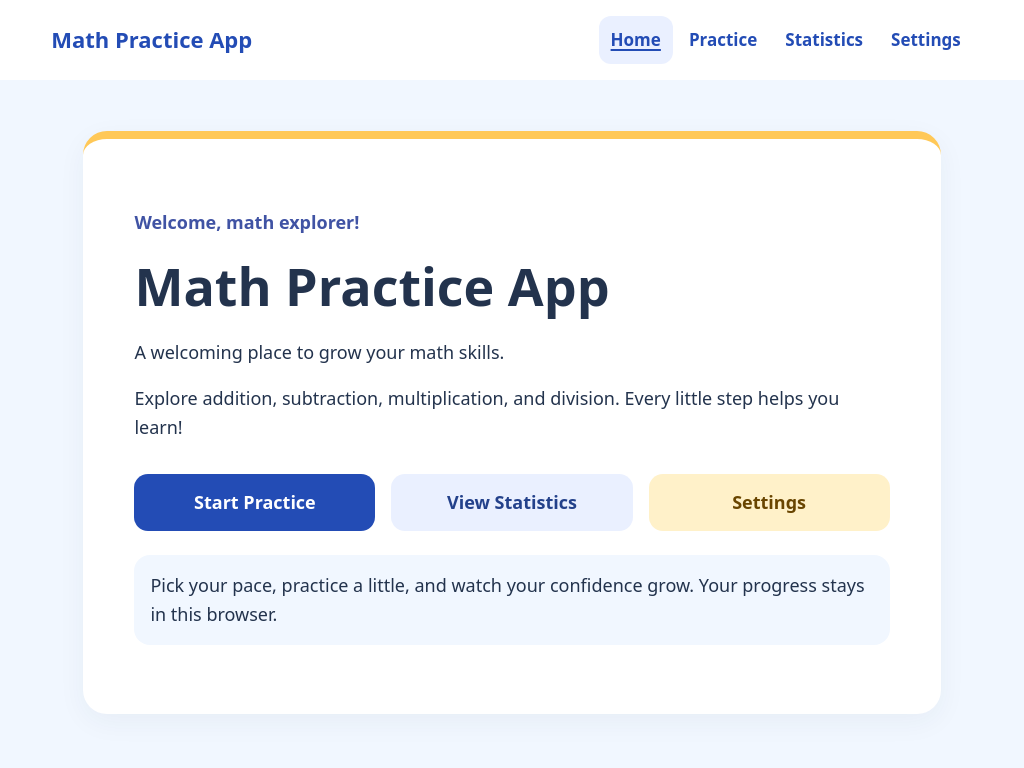
Test: home navigation › Settings opens /settings and keeps the shared layout mounted
Click the link "Settings" next to "View Statistics" at (769,503), box [648, 474, 890, 531]
(page scrolled)
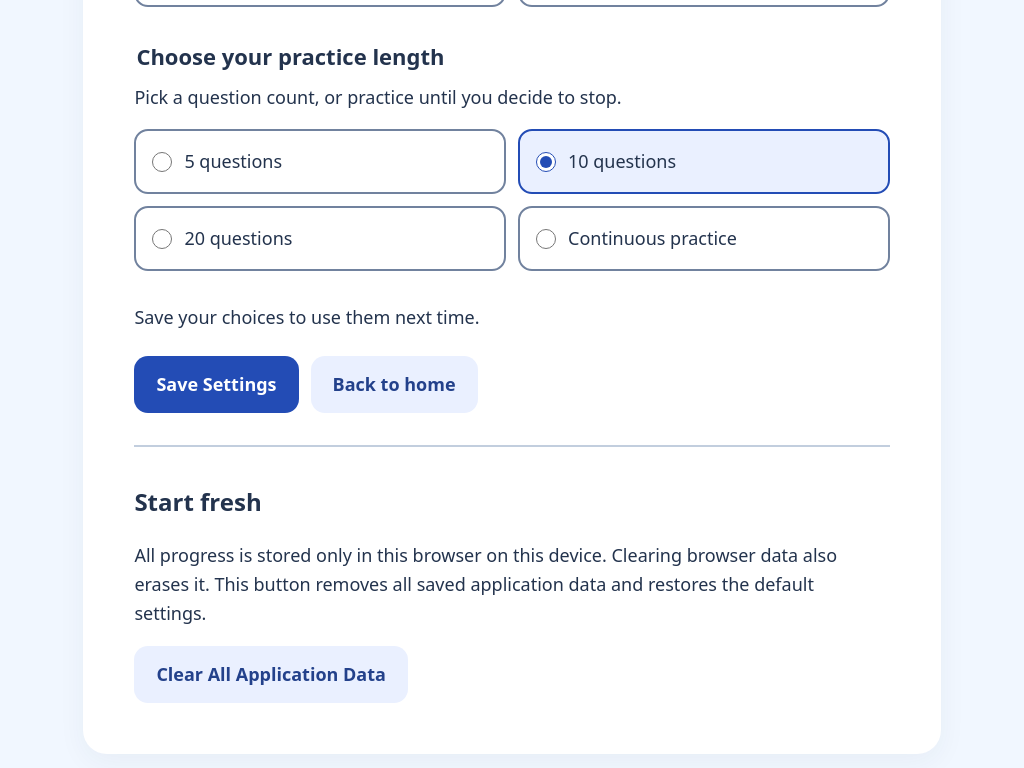
Click the link "Back to home" at (394,384), box [311, 356, 478, 413]
(page scrolled)
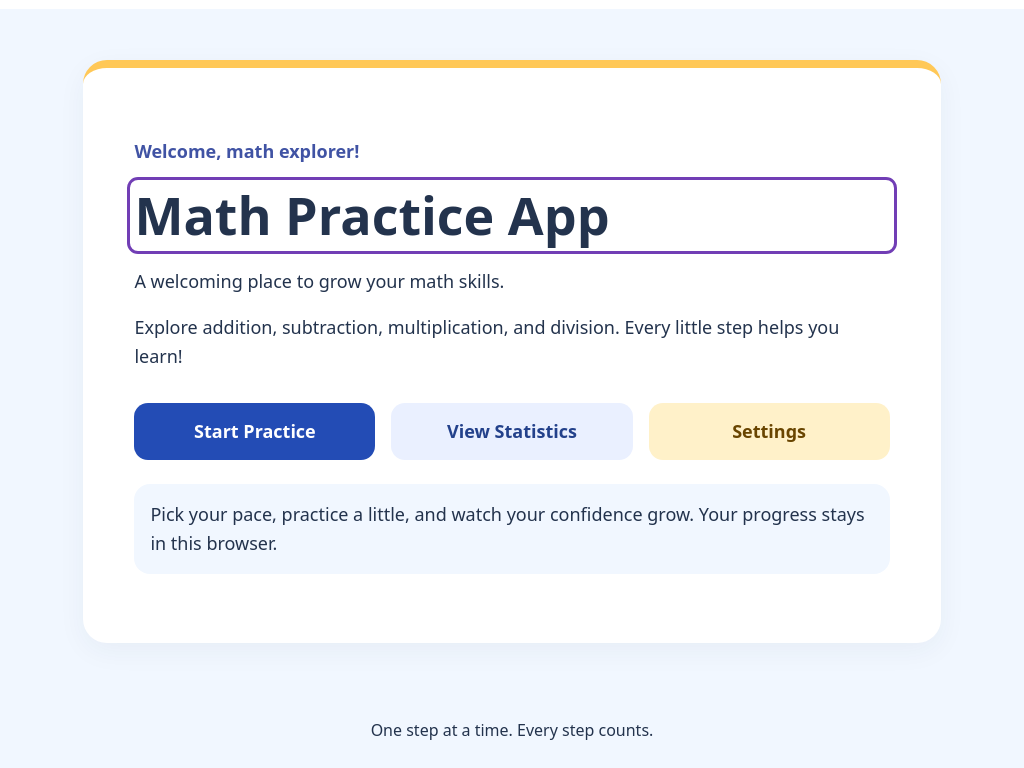
Expected: the heading "Math Practice App" is shown, [134, 179, 610, 250]
